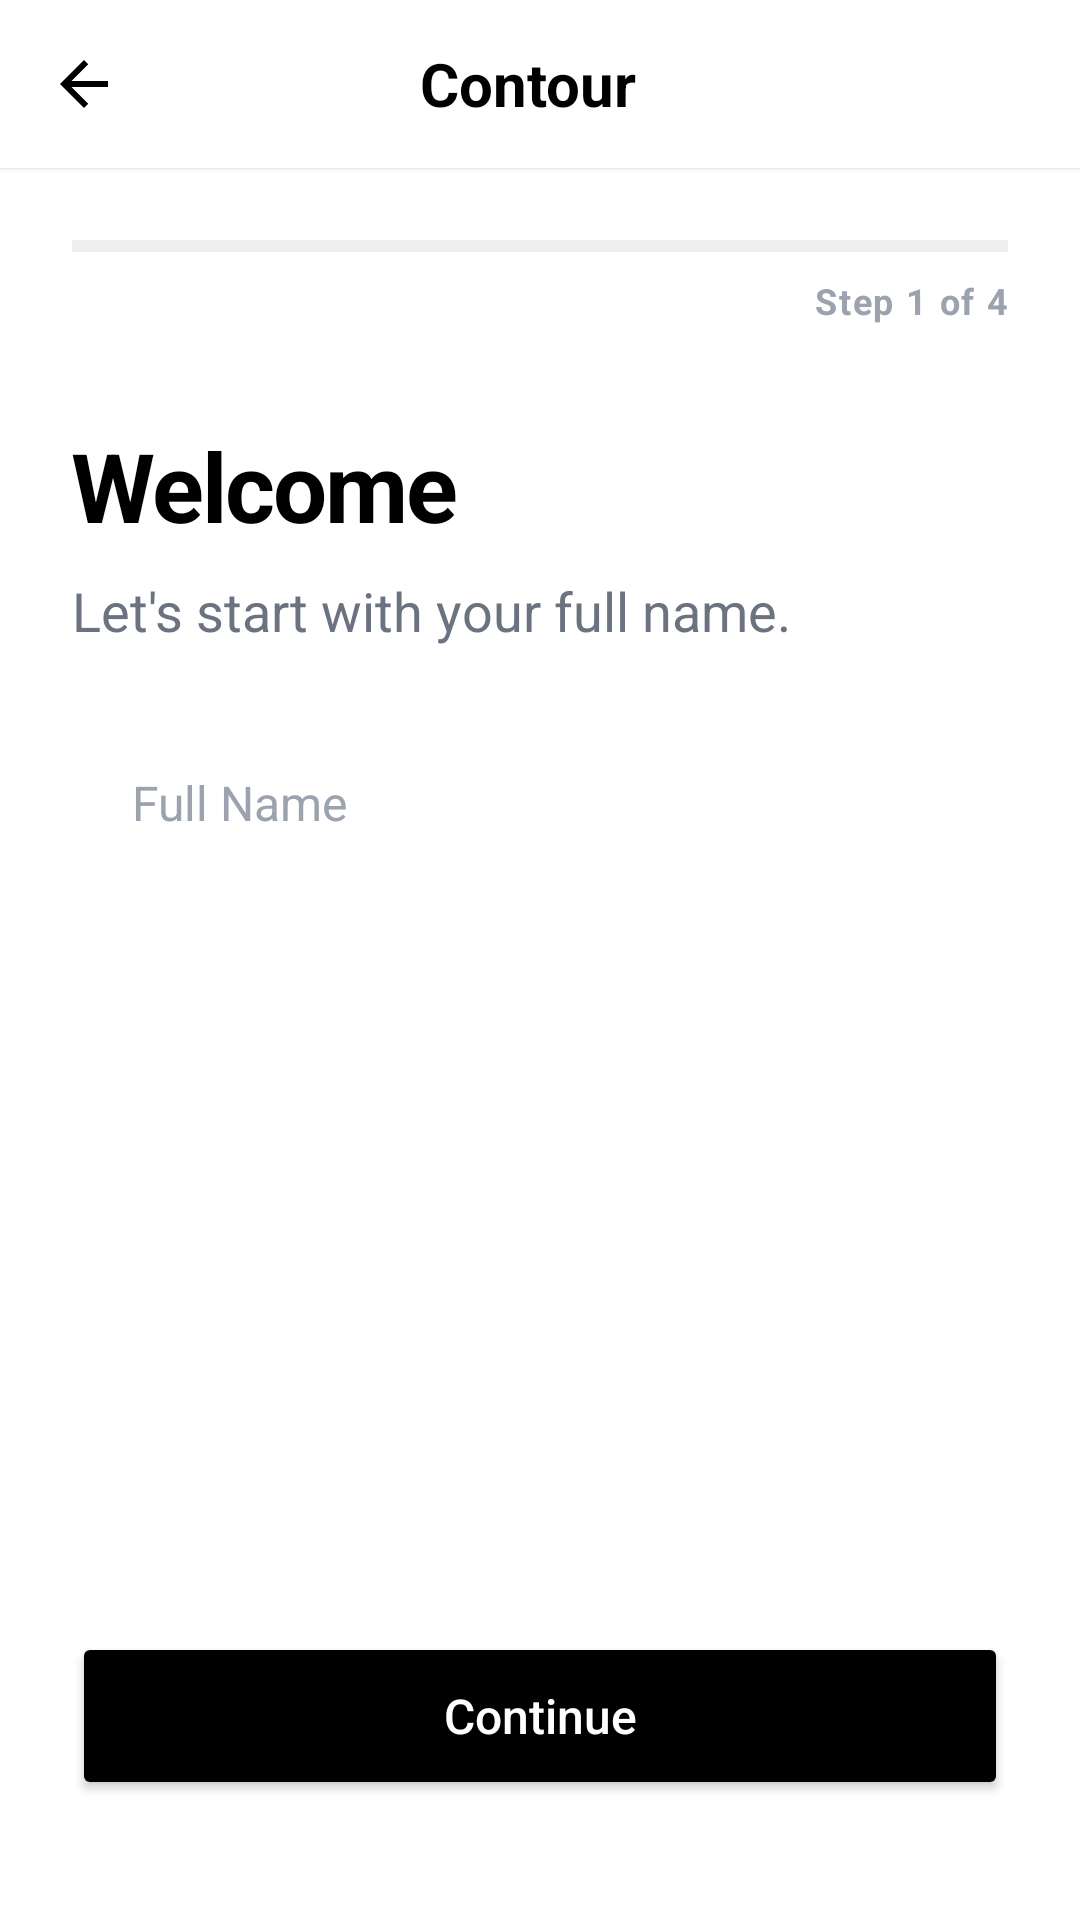

Named icons in this screenshot (1080w x 1920h) and their bounding boxes, [x1, y1, x2, y2]:
Go back: [60, 60, 108, 108]
